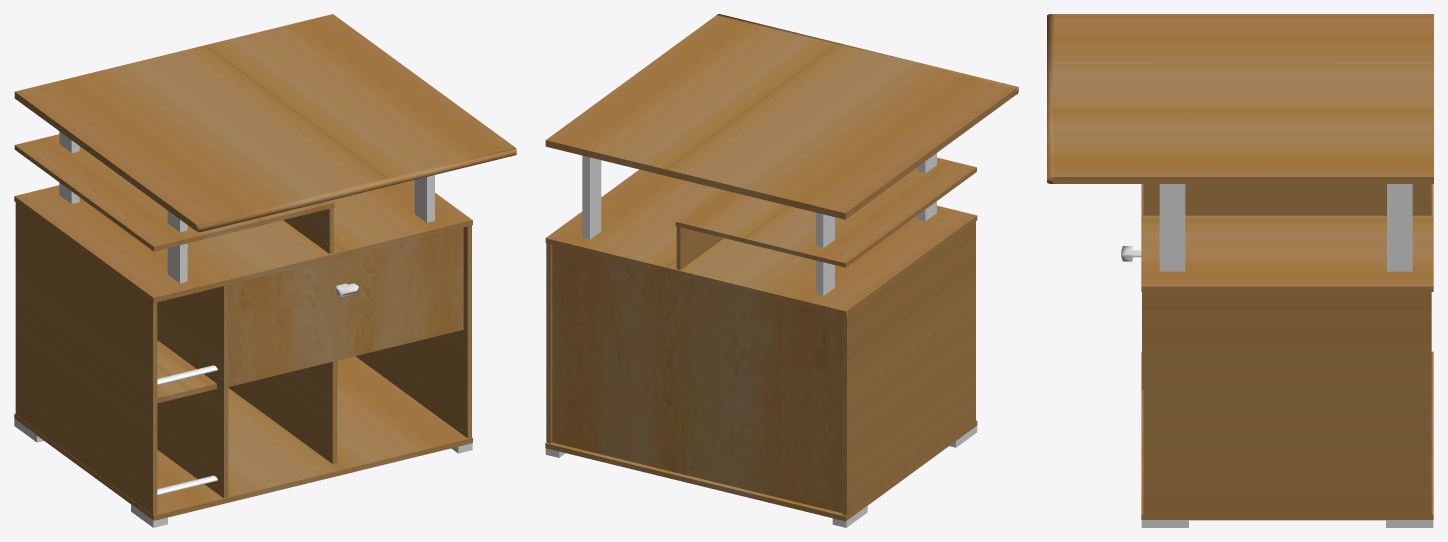
The model's file is sh-contrib-bar-cusisine.glb.
3 views of the same model, side by side, from view 1: azimuth 30°, elevation 25°; view 2: azimuth 150°, elevation 25°; view 3: azimuth 270°, elevation 25° (orthographic). The views are drawn at different scales.
Visible parts, largest first — view 1: Cube_2_5, Cube_1_1, Cylinder_1_27; view 2: Cube_2_5, Cube_1_1; view 3: Cube_2_5, Cube_1_1.
Boxes of the visible parts, x1=… form: Cube_2_5: x1=14, y1=14, x2=516, y2=520; Cube_1_1: x1=14, y1=131, x2=472, y2=527; Cylinder_1_27: x1=157, y1=365, x2=217, y2=495; Cube_2_5: x1=545, y1=14, x2=1018, y2=521; Cube_1_1: x1=545, y1=153, x2=977, y2=527; Cube_2_5: x1=1047, y1=14, x2=1433, y2=520; Cube_1_1: x1=1121, y1=184, x2=1433, y2=527.
Size of the model in its own units: 1 by 1 by 1.
Materials: 3 (1 with a texture image).
